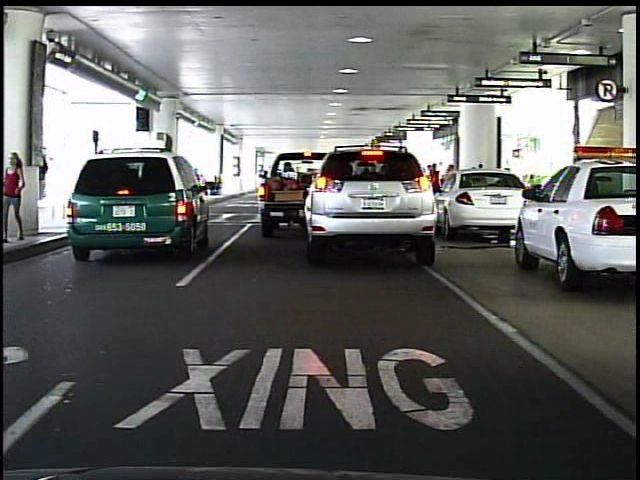person: (4, 149, 38, 248)
